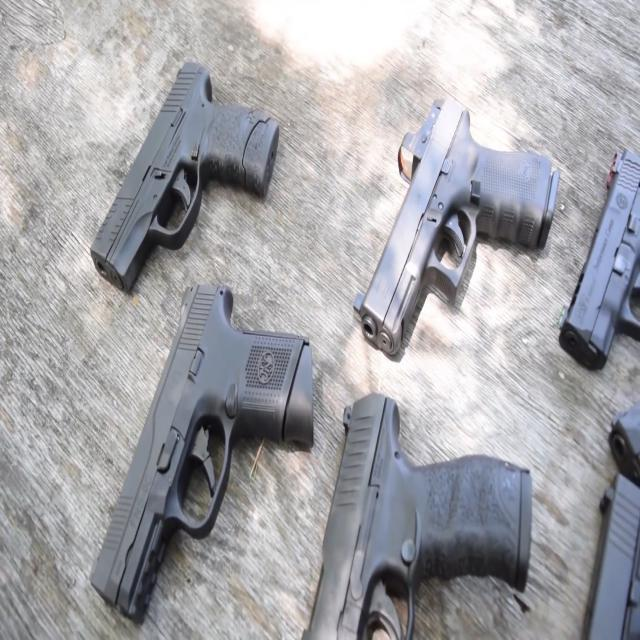handgun: (68, 264, 346, 627), (279, 380, 556, 640), (326, 98, 585, 370), (80, 58, 304, 322), (554, 115, 640, 383)
